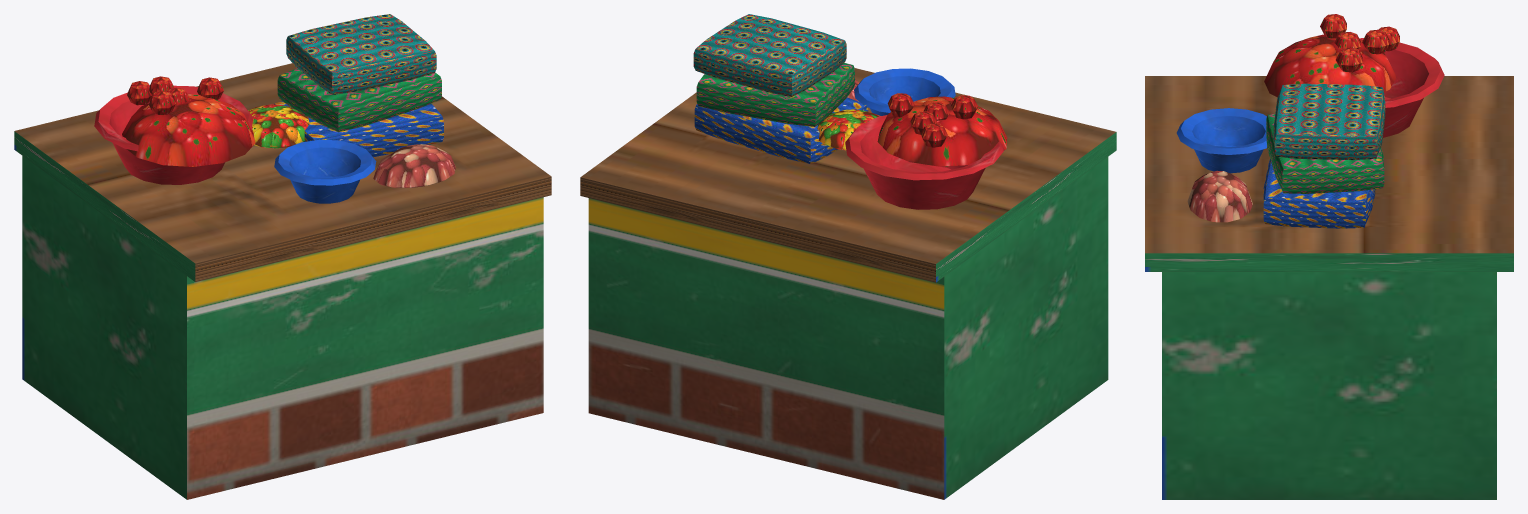
Rendered from mkt_hard_counter.glb.
The picture shows the model from 3 angles, left to right: view 1: azimuth 30°, elevation 25°; view 2: azimuth 150°, elevation 25°; view 3: azimuth 270°, elevation 25°; orthographic projection. The views are drawn at different scales.
Visible parts, largest first — view 1: mkt_hard_counter_body; view 2: mkt_hard_counter_body; view 3: mkt_hard_counter_body.
Part boxes in pixels (<box>): mkt_hard_counter_body: <box>14,14,551,499</box>; mkt_hard_counter_body: <box>580,14,1116,499</box>; mkt_hard_counter_body: <box>1145,14,1513,499</box>.
Bounding box in the file's own units: 1 × 0.905 × 0.88.
1 material, 1 textured.
